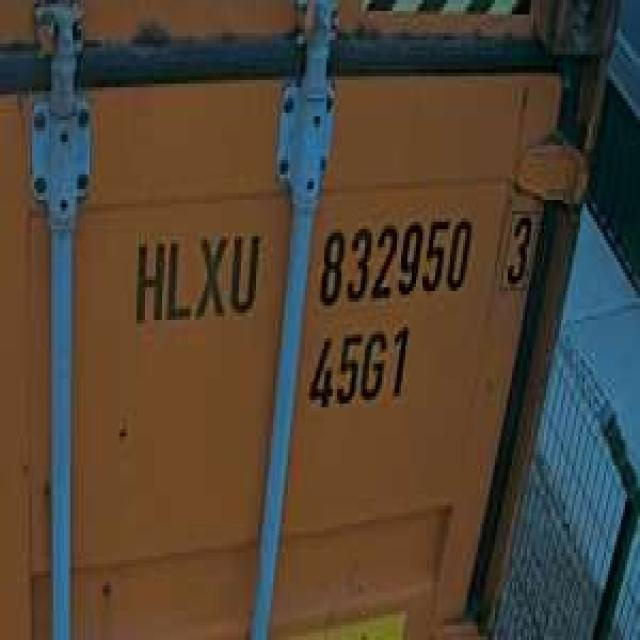dv: (495, 200, 538, 295)
owner: (128, 218, 265, 335)
serial: (314, 204, 474, 306)
size: (303, 320, 414, 415)
